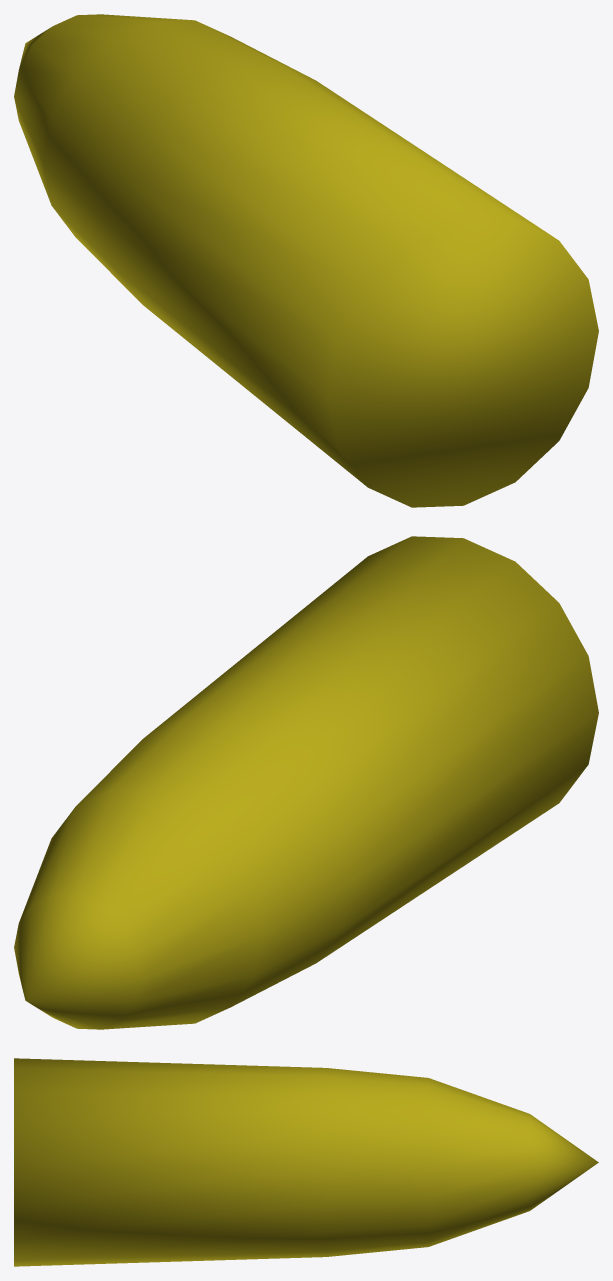
Rendered from bullet.fbx.
3 views of the same model, one above another, from view 1: azimuth 30°, elevation 25°; view 2: azimuth 150°, elevation 25°; view 3: azimuth 270°, elevation 25° (orthographic). The views are drawn at different scales.
Visible parts, largest first — view 1: Cylinder; view 2: Cylinder; view 3: Cylinder.
Boxes of the visible parts, x1,y1,x2,y2 form: Cylinder: (14, 14, 598, 507); Cylinder: (14, 536, 598, 1029); Cylinder: (14, 1058, 598, 1266).
Size of the model in its own units: 20 by 20 by 56.11.
